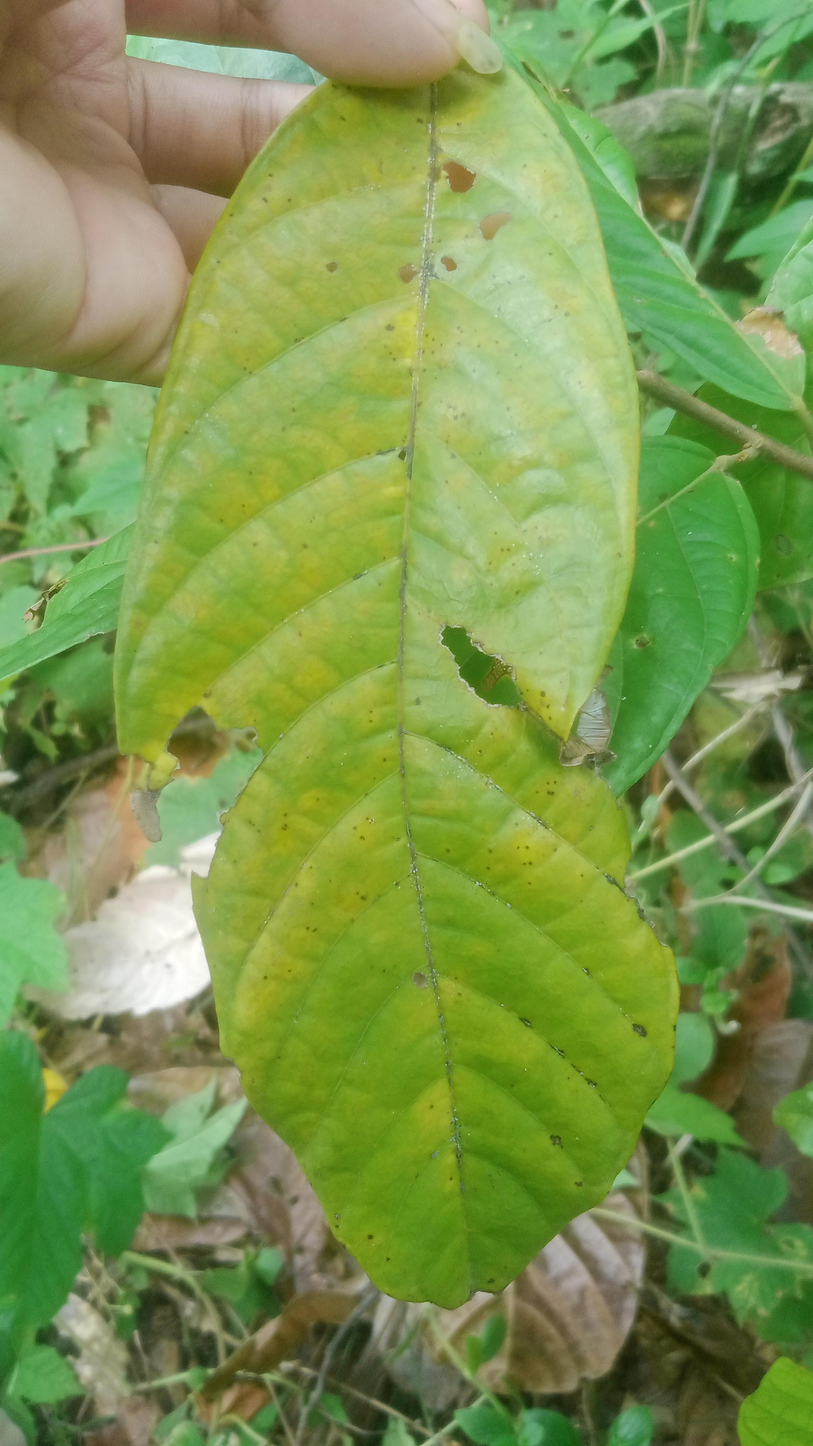deficiencia_potasio: (113, 57, 708, 1330)
